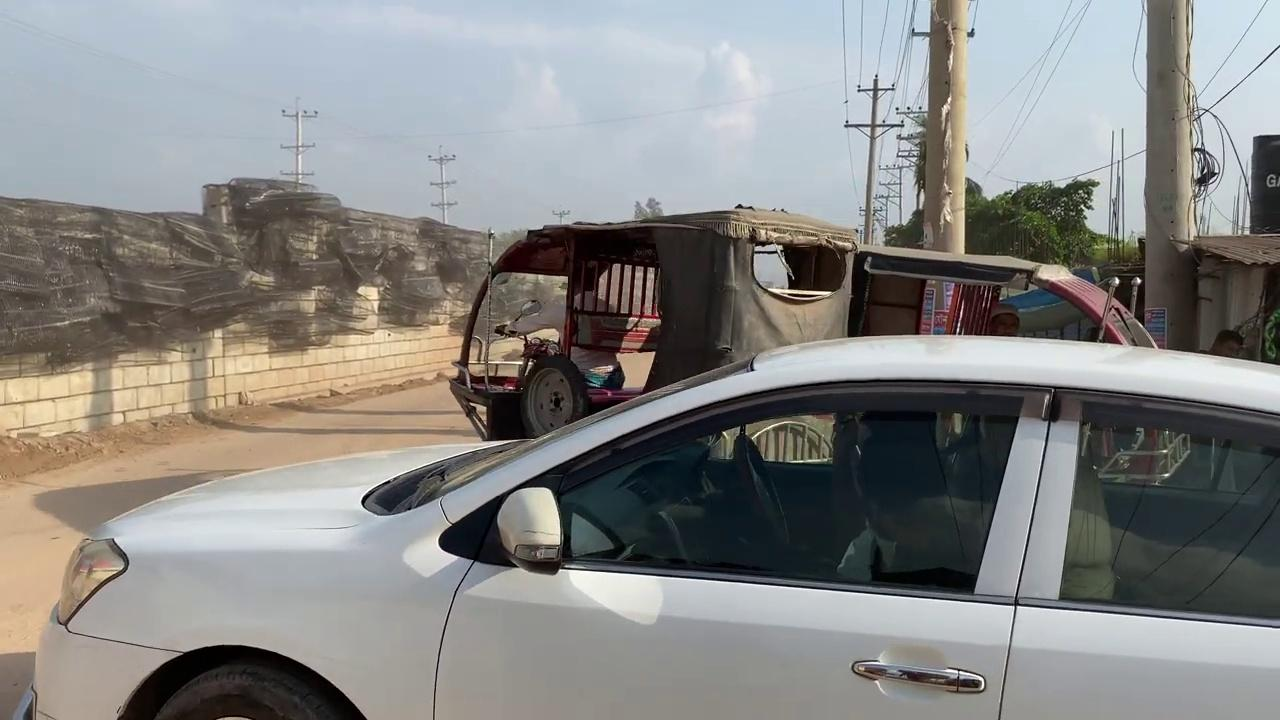Car: (17, 324, 1279, 719)
Pole: (1141, 0, 1198, 351), (919, 0, 971, 332)
Tree: (447, 205, 859, 442)
Upstairs: (0, 179, 581, 438)
